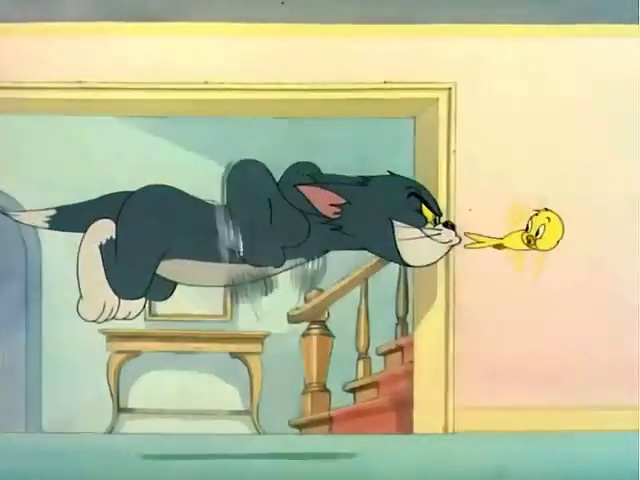tom: (8, 132, 468, 381)
